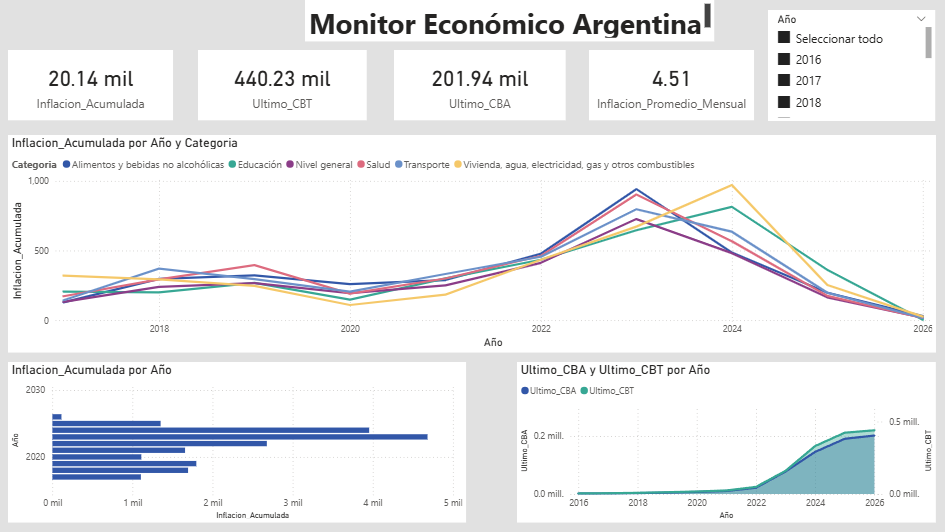

What the dashboard file says about the page in this screenshot:
{"tool":"powerbi","page":{"name":"Monitor Económico","canvas":[1280,720],"ordinal":0},"visuals":[{"type":"card","fields":{"Values":["Calendario.Inflacion_Acumulada"]},"box":[11.5,67.7,223.2,95],"z":0},{"type":"card","fields":{"Values":["Calendario.Ultimo_CBT"]},"box":[269.3,67.7,227.5,95],"z":1000},{"type":"card","fields":{"Values":["Calendario.Inflacion_Promedio_Mensual"]},"box":[797.8,67.7,223.2,95],"z":2000},{"type":"card","fields":{"Values":["Calendario.Ultimo_CBA"]},"box":[534.2,67.7,231.8,95],"z":3000},{"type":"lineChart","fields":{"Category":["Calendario.Año"],"Y":["Calendario.Inflacion_Acumulada"],"Series":["IPC_Variacion_Mensual.Categoria"]},"box":[11.5,182.9,1254.2,293.8],"z":4000},{"type":"clusteredBarChart","fields":{"Category":["Calendario.Date.Variación.Jerarquía de fechas.Año","Calendario.Date.Variación.Jerarquía de fechas.Trimestre","Calendario.Date.Variación.Jerarquía de fechas.Mes","Calendario.Date.Variación.Jerarquía de fechas.Día"],"Y":["Calendario.Inflacion_Acumulada"]},"box":[11.5,489.6,619.2,217.4],"z":5000},{"type":"slicer","fields":{"Values":["Calendario.Año"]},"box":[1039.7,13,226.1,149.8],"z":7000},{"type":"areaChart","fields":{"Category":["Calendario.Date.Variación.Jerarquía de fechas.Año","Calendario.Date.Variación.Jerarquía de fechas.Trimestre","Calendario.Date.Variación.Jerarquía de fechas.Mes","Calendario.Date.Variación.Jerarquía de fechas.Día"],"Y":["Calendario.Ultimo_CBA"],"Y2":["Calendario.Ultimo_CBT"]},"box":[699.8,489.6,565.9,217.4],"z":8000},{"type":"textbox","box":[413.3,0,553,56.2],"z":9000}]}

Visuals, with their boxes in screenshot pixels (x1, y1, x2, y2), scaled from the page's 1280x720 canvas onto the 945x532 screenshot:
card - Calendario.Inflacion_Acumulada: (left=8, top=50, right=173, bottom=120)
card - Calendario.Ultimo_CBT: (left=199, top=50, right=367, bottom=120)
card - Calendario.Inflacion_Promedio_Mensual: (left=589, top=50, right=754, bottom=120)
card - Calendario.Ultimo_CBA: (left=394, top=50, right=566, bottom=120)
lineChart - Calendario.Año x Calendario.Inflacion_Acumulada: (left=8, top=135, right=934, bottom=352)
clusteredBarChart - Calendario.Date.Variación.Jerarquía de fechas.Año x Calendario.Date.Variación.Jerarquía de fechas.Trimestre: (left=8, top=362, right=466, bottom=522)
slicer - Calendario.Año: (left=768, top=10, right=935, bottom=120)
areaChart - Calendario.Date.Variación.Jerarquía de fechas.Año x Calendario.Date.Variación.Jerarquía de fechas.Trimestre: (left=517, top=362, right=934, bottom=522)
textbox: (left=305, top=0, right=713, bottom=42)
